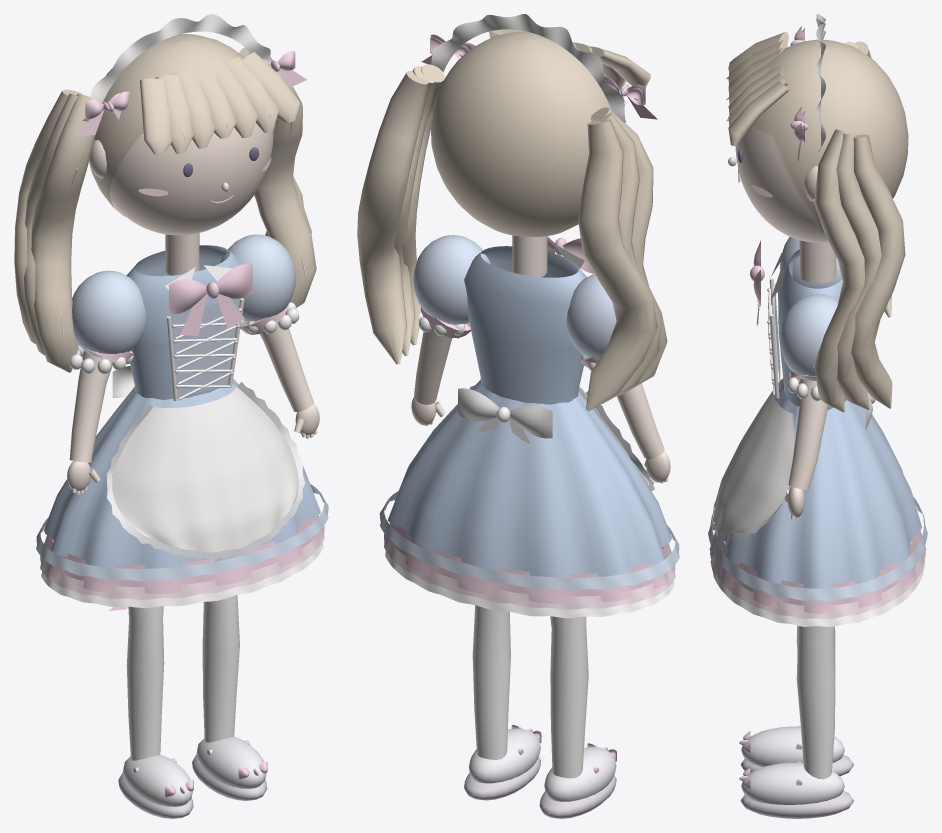
Rendered from maid_blonde_twintails.glb.
3 views of the same model, side by side, from view 1: azimuth 30°, elevation 25°; view 2: azimuth 150°, elevation 25°; view 3: azimuth 270°, elevation 25° (orthographic). The views are drawn at different scales.
Parts seen in each view (by area): view 1: Blonde twin-tail maid; view 2: Blonde twin-tail maid; view 3: Blonde twin-tail maid.
Boxes of the visible parts, box(x1,y1,x2,y2) form: Blonde twin-tail maid: box(14, 14, 328, 818); Blonde twin-tail maid: box(357, 14, 679, 818); Blonde twin-tail maid: box(708, 14, 927, 818).
Bounding box in the file's own units: 0.5112 × 1.31 × 0.3385.
